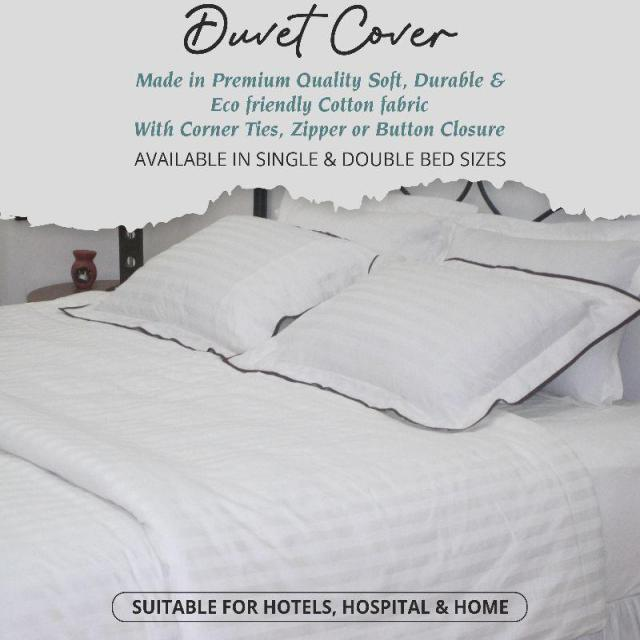bed: (0, 180, 639, 638)
